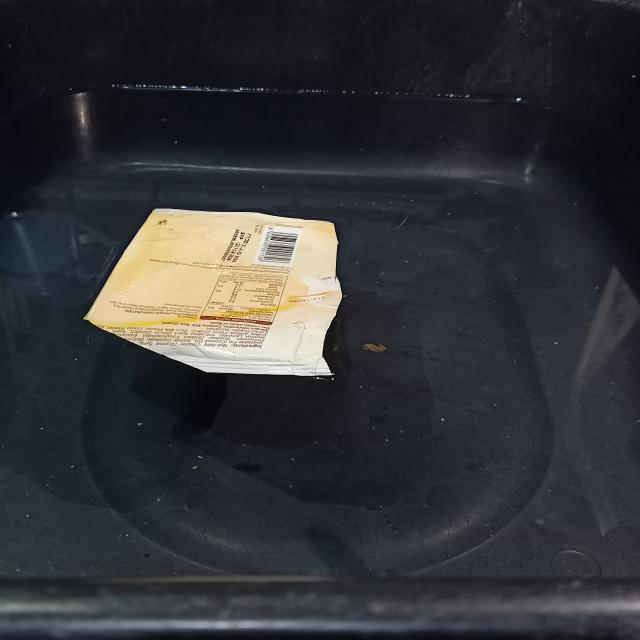Plastic Wrapper: (85, 209, 342, 376)
